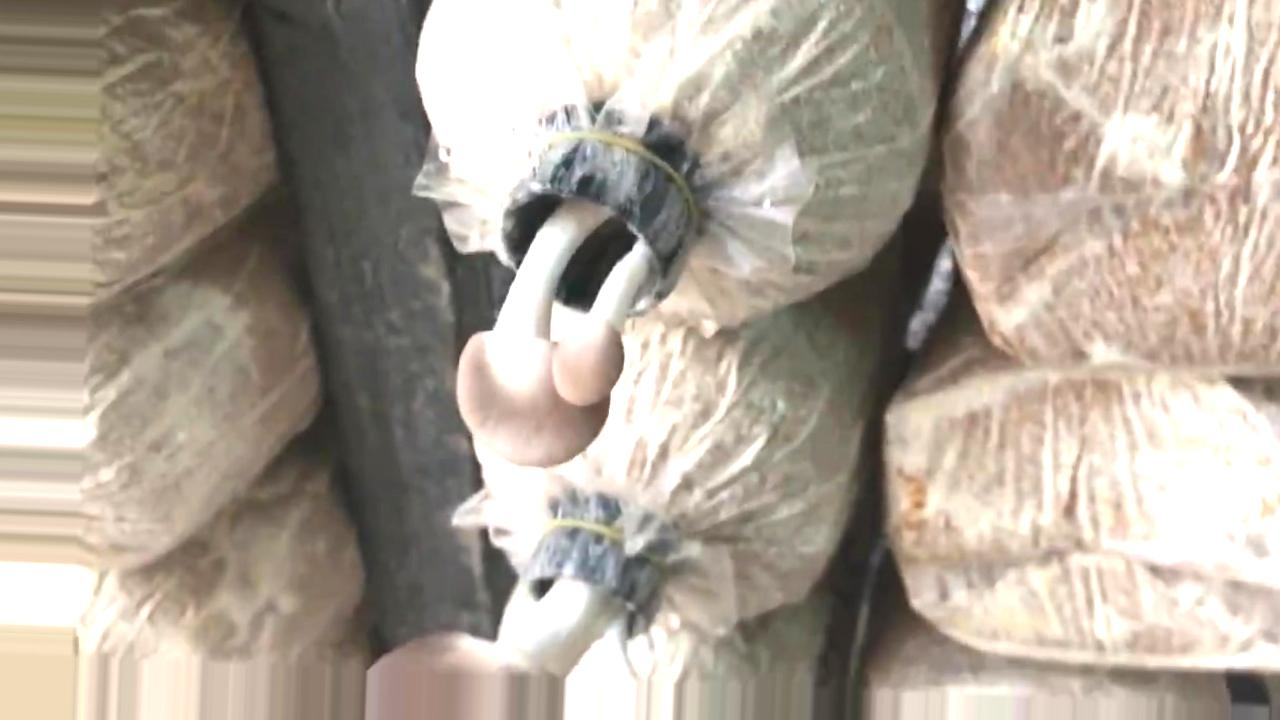nam: (456, 141, 692, 464), (364, 510, 662, 720)
